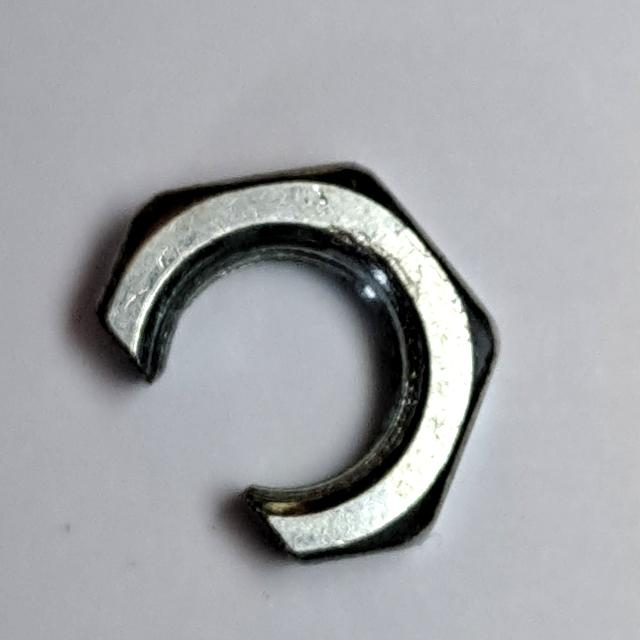Fracture: (81, 149, 510, 584)
